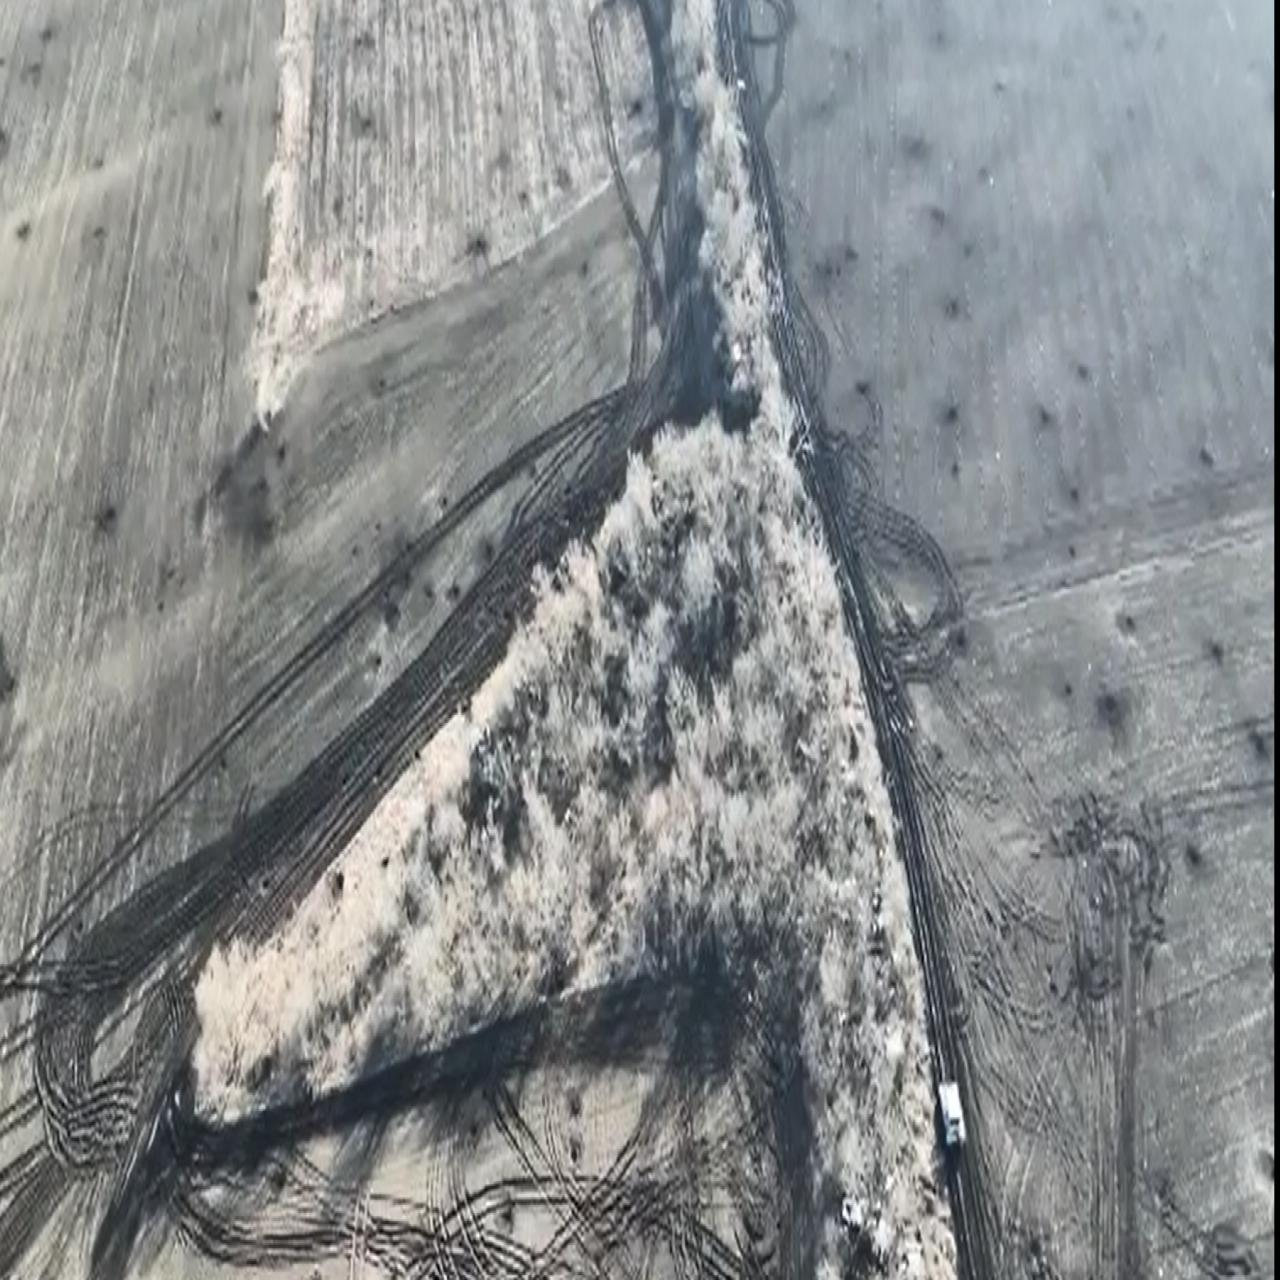MIL_Veh: (922, 1074, 969, 1154)
